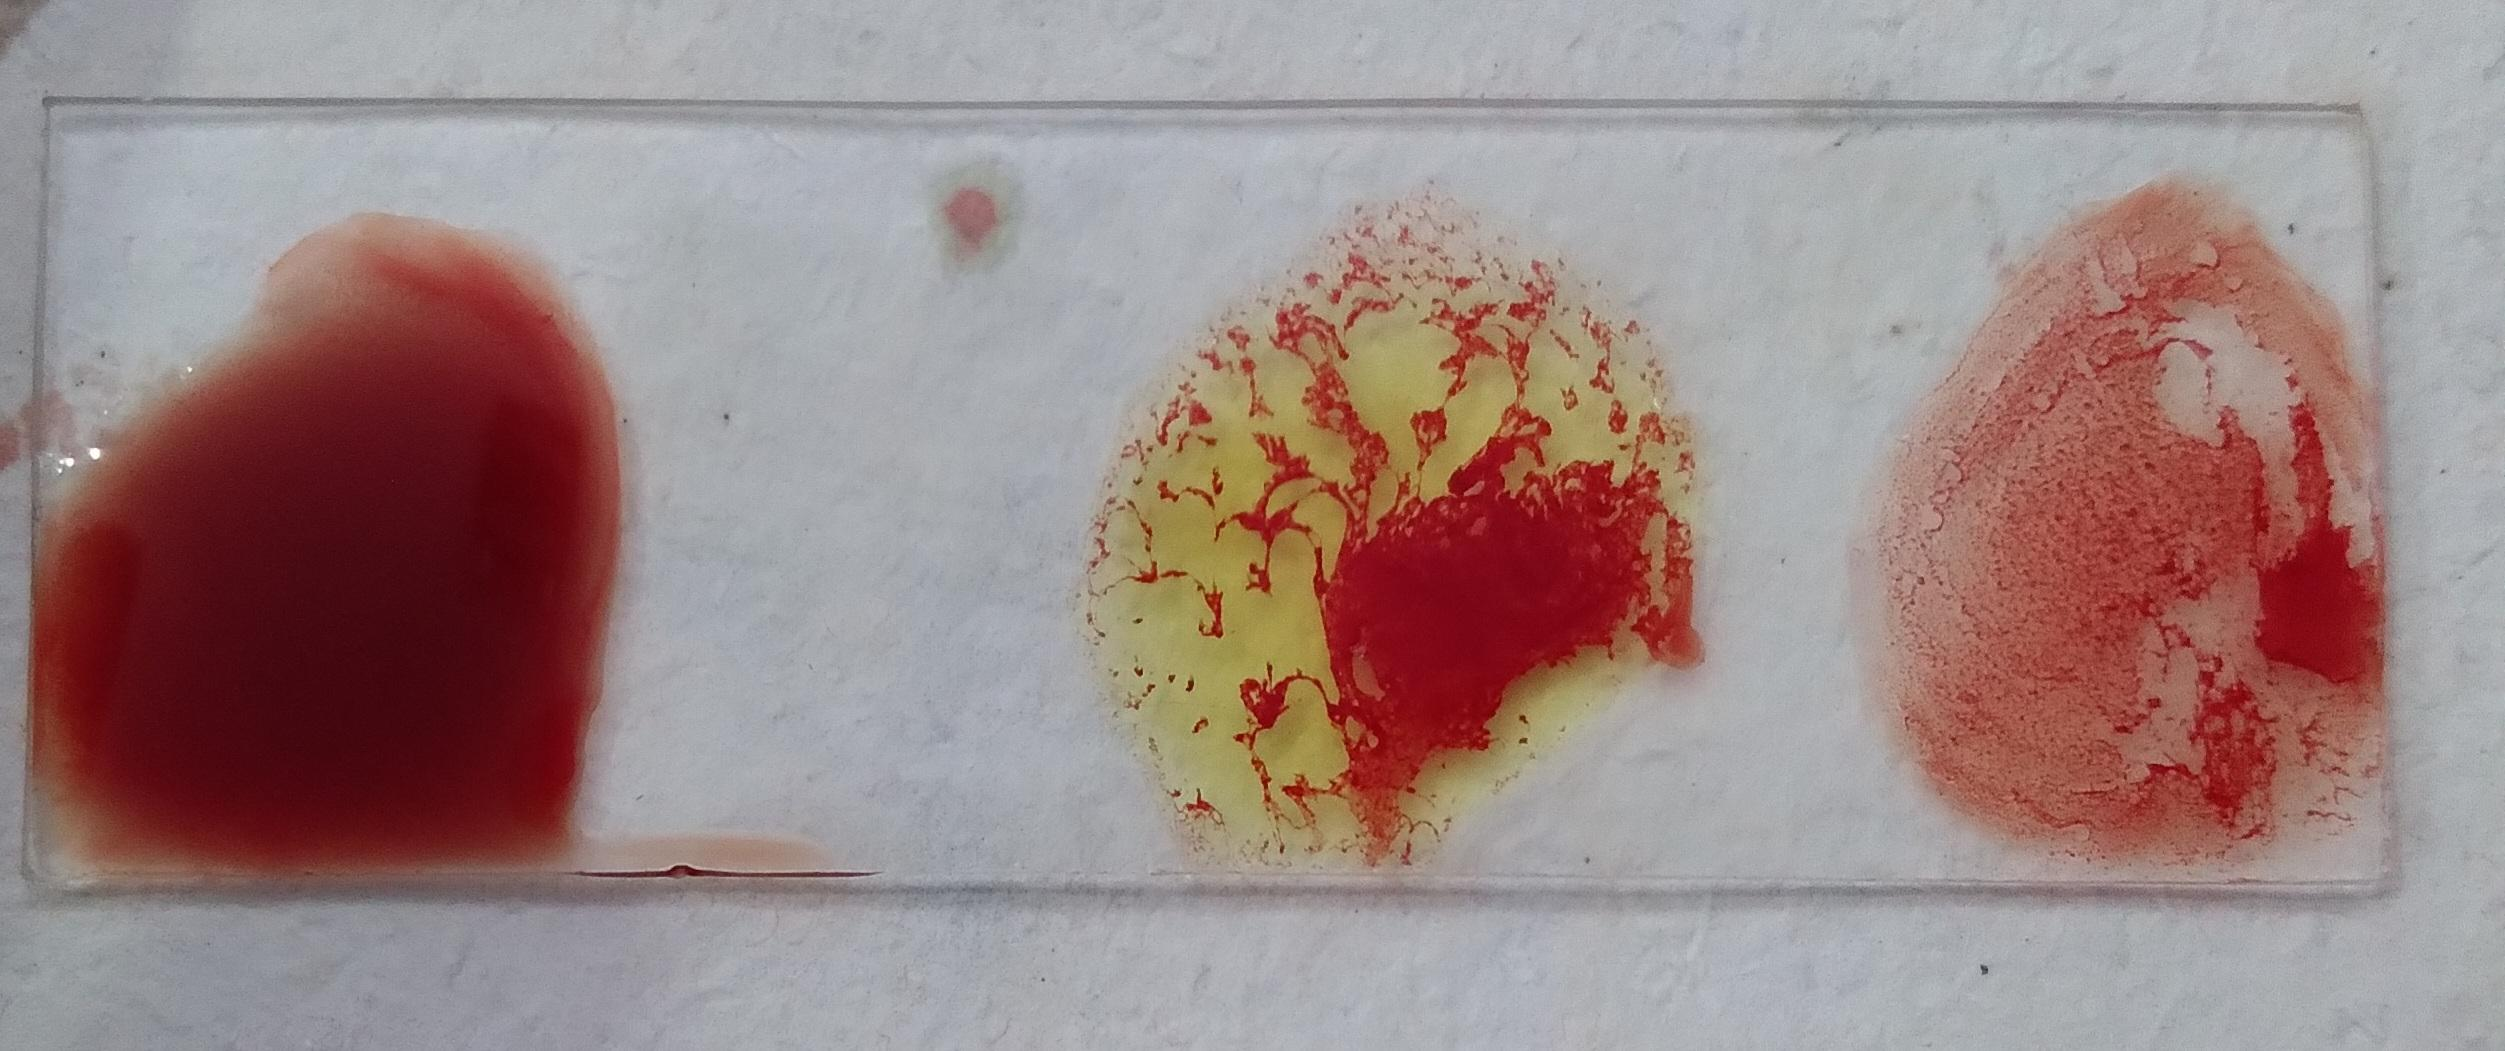B: (1123, 227, 1695, 875)
D: (1871, 208, 2390, 888)
